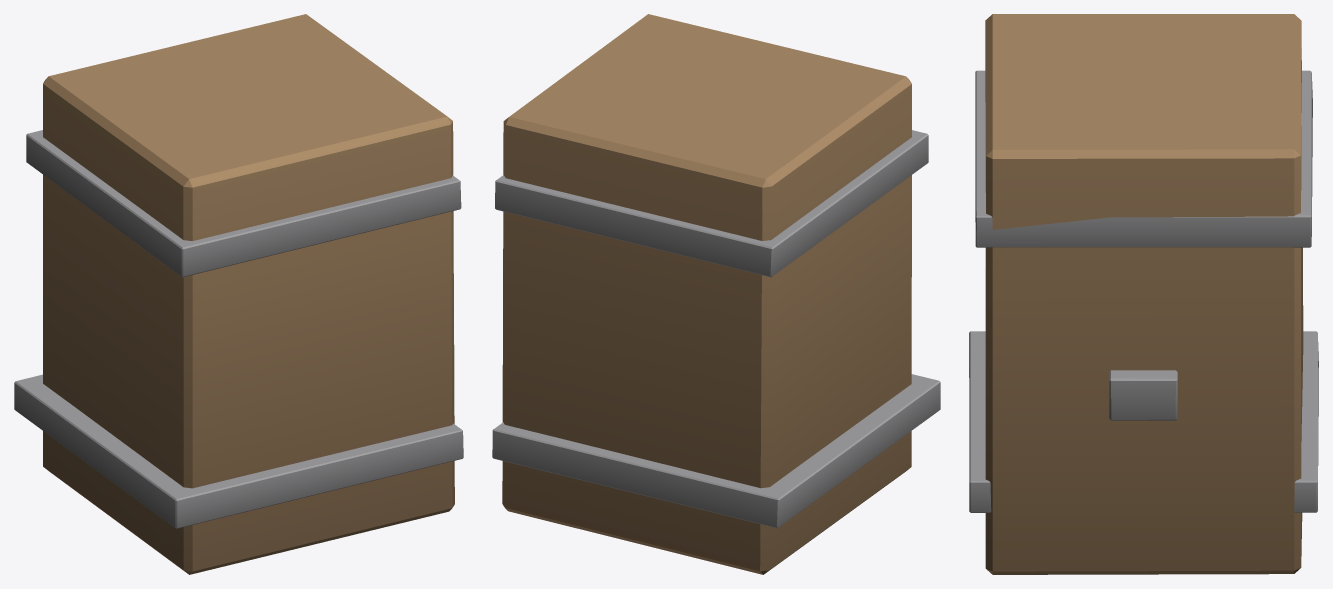
The model's file is barrel.glb.
The picture shows the model from 3 angles, left to right: view 1: azimuth 30°, elevation 25°; view 2: azimuth 150°, elevation 25°; view 3: azimuth 270°, elevation 25°; orthographic projection. The views are drawn at different scales.
Visible parts, largest first — view 1: Body, RingLo, RingHi; view 2: Body, RingLo, RingHi; view 3: Body, RingHi, RingLo, Tap.
Part boxes in pixels (left/top/right/bottom): Body: left=43, top=14, right=454, bottom=574; RingLo: left=14, top=374, right=463, bottom=528; RingHi: left=26, top=130, right=461, bottom=277; Body: left=502, top=14, right=911, bottom=574; RingLo: left=492, top=374, right=940, bottom=528; RingHi: left=495, top=130, right=928, bottom=277; Body: left=985, top=14, right=1303, bottom=574; RingHi: left=975, top=70, right=1312, bottom=247; RingLo: left=969, top=331, right=1318, bottom=512; Tap: left=1109, top=370, right=1177, bottom=420.
Size of the model in its own units: 0.6466 by 0.801 by 0.5972.
